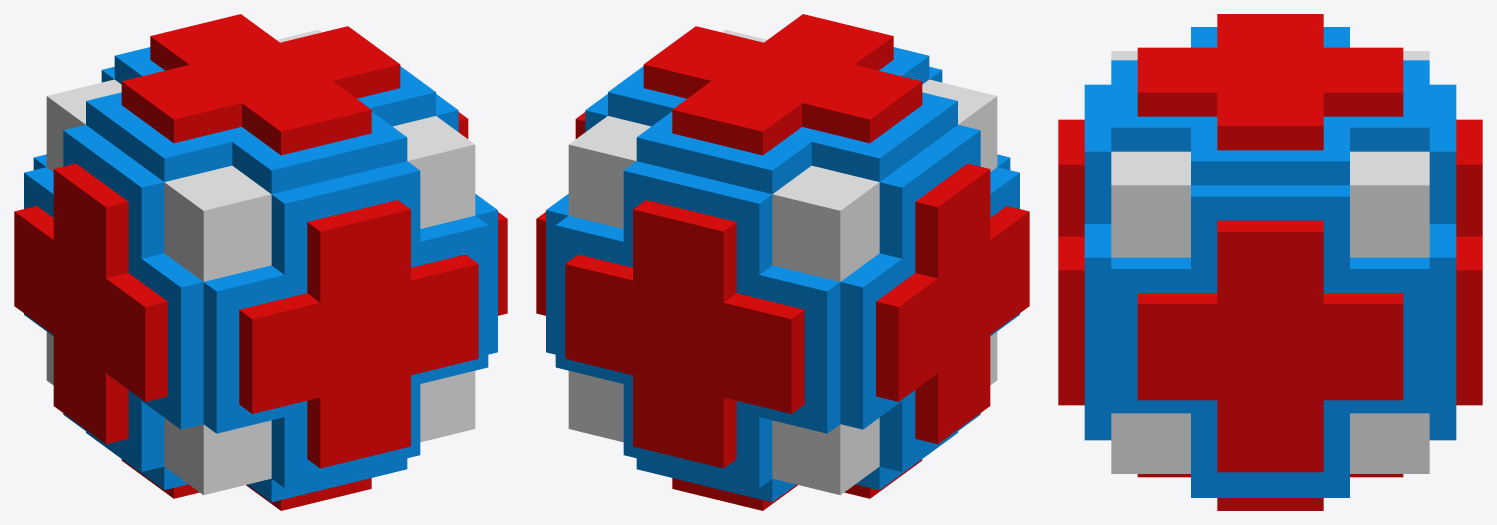
Rendered from health_pack.obj.
The picture shows the model from 3 angles, left to right: view 1: azimuth 30°, elevation 25°; view 2: azimuth 150°, elevation 25°; view 3: azimuth 270°, elevation 25°; orthographic projection.
Size of the model in its own units: 16 by 16 by 16.
Materials: 1 (1 with a texture image).
